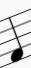note: (7, 14, 25, 63)
